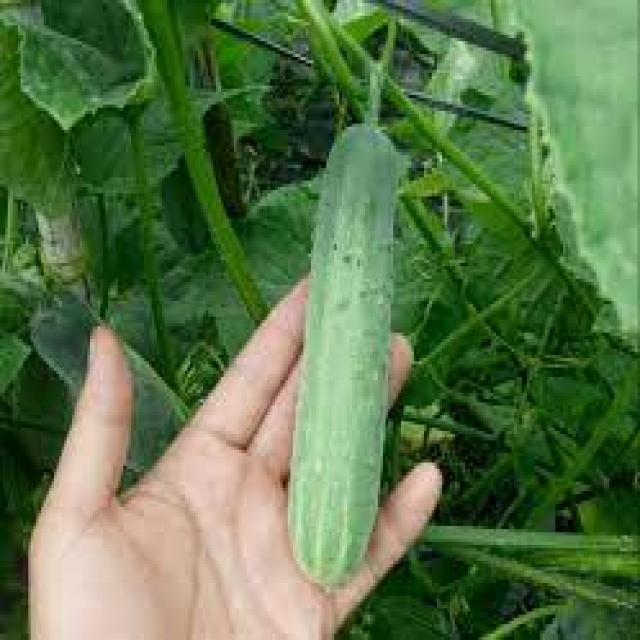cucumber: (289, 118, 397, 586)
